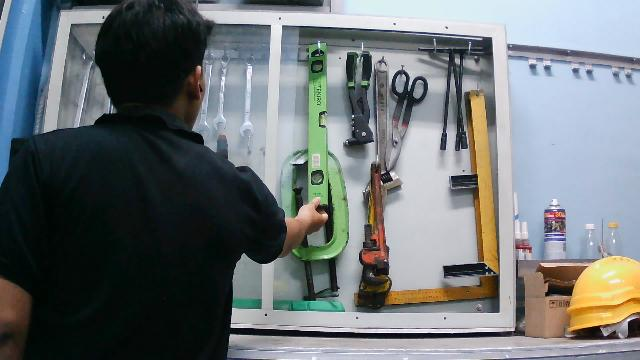water_pass: (304, 41, 331, 210)
